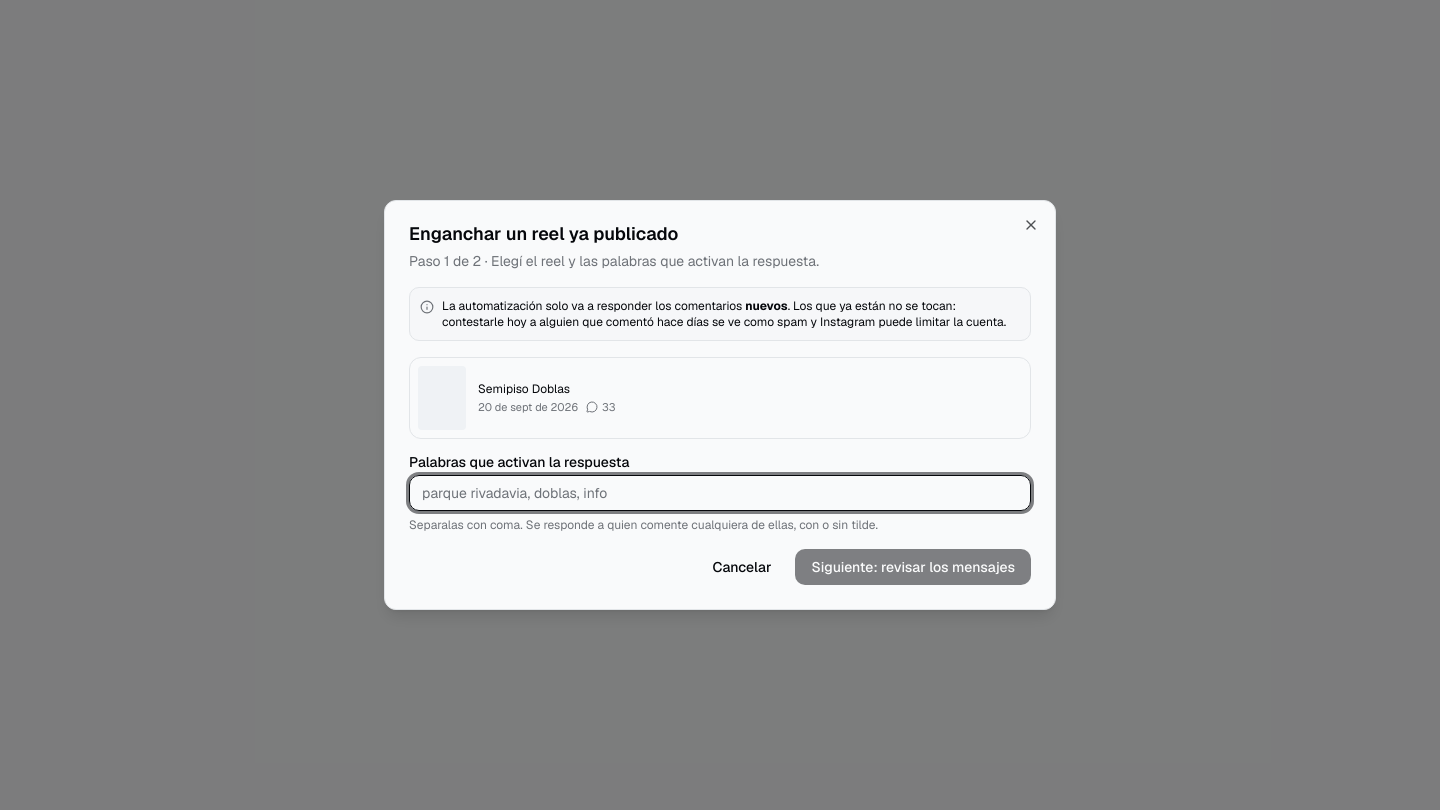
it: EngancharReelDialog › no deja avanzar sin reel y sin al menos una palabra
The width and height of the screenshot is (1440, 810).
Expected: the button "Siguiente: revisar los mensajes" is disabled, [795,549,1031,585]
Click the button "Semipiso Doblas 20 de sept de 2026 33": coordinates (442, 398) [409,357,1031,439]
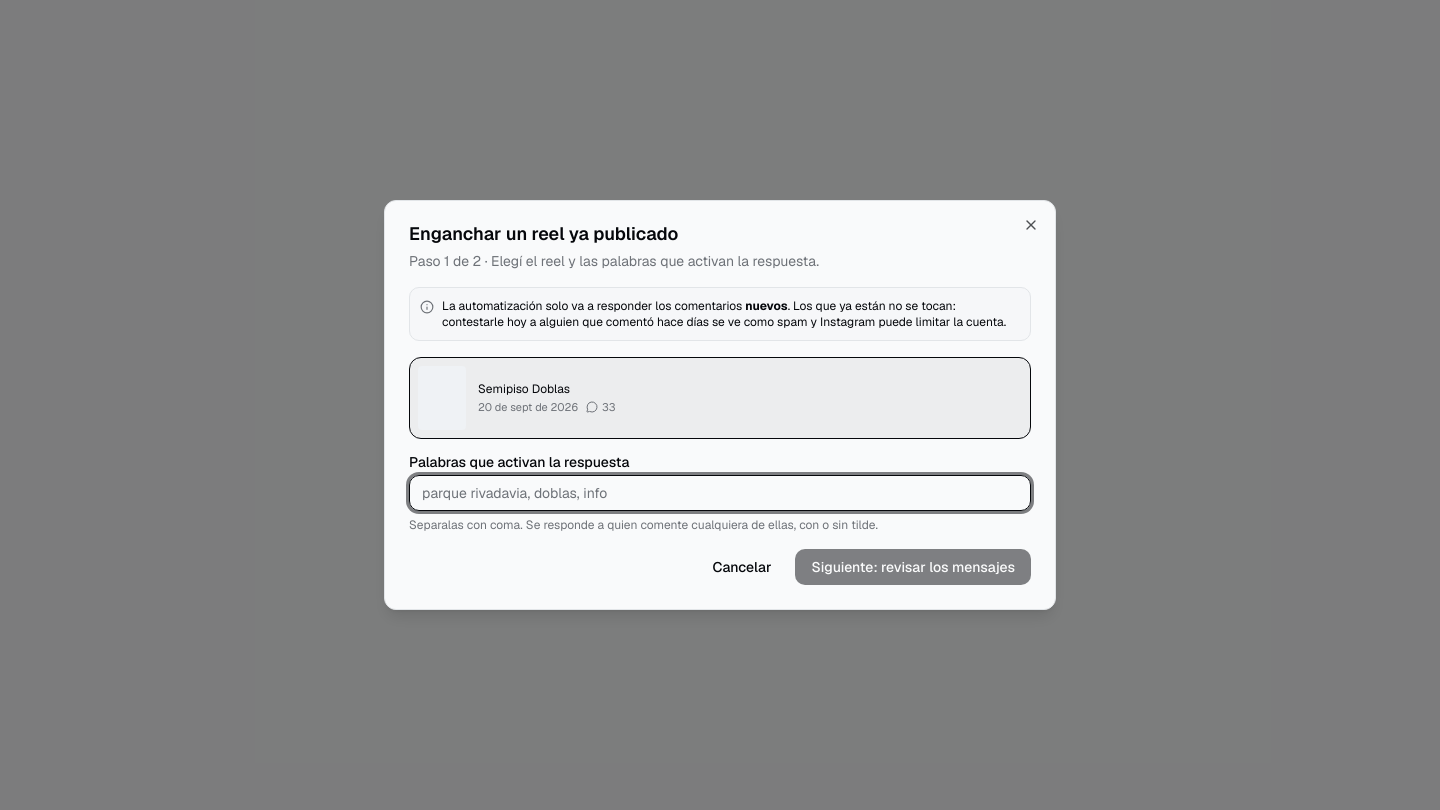
Expected: the button "Siguiente: revisar los mensajes" is disabled, [795,549,1031,585]
In the field labelled "Palabras que activan la respuesta": coordinates (720, 493) [409,475,1031,511], type "doblas"
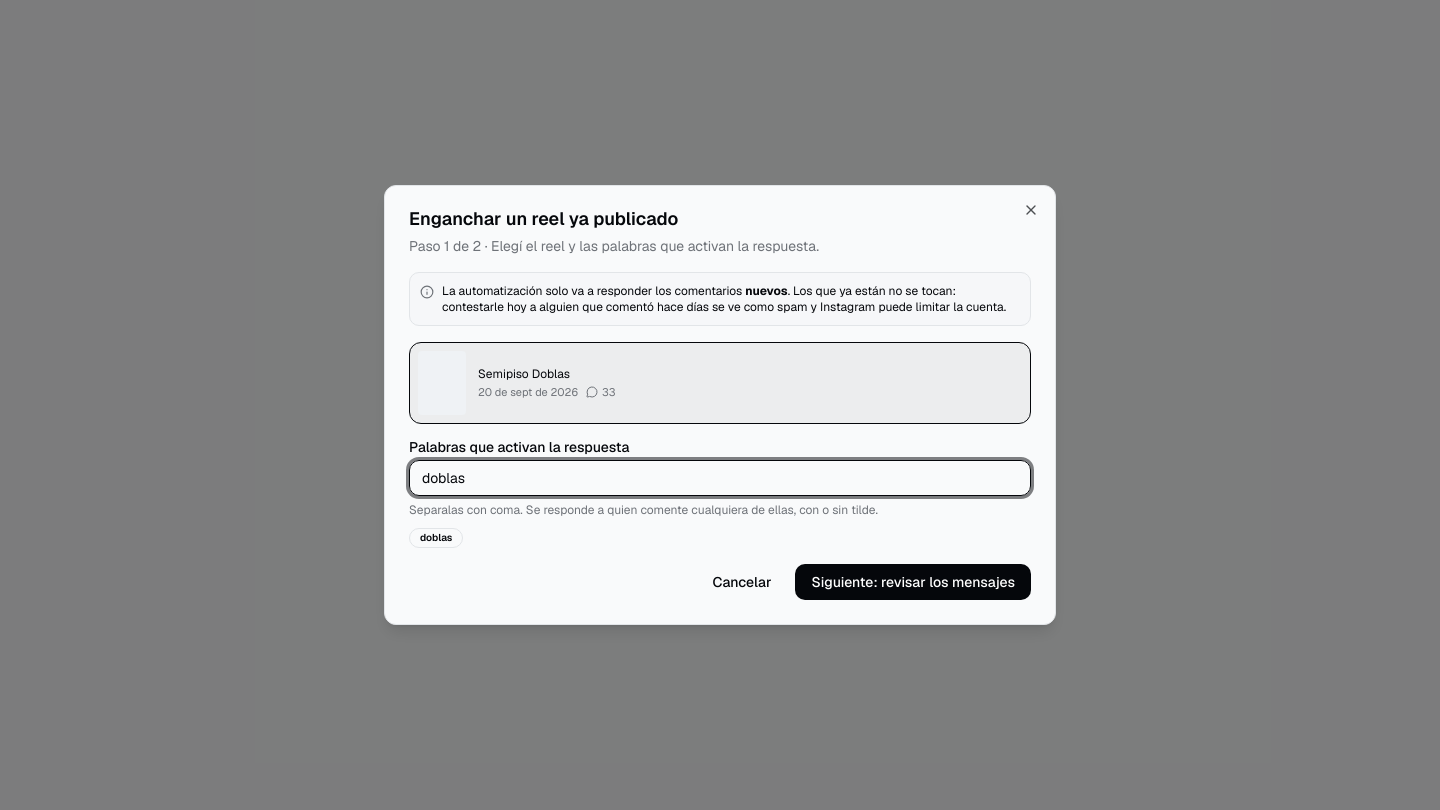
Expected: the button "Siguiente: revisar los mensajes" is enabled, [795,564,1031,600]
